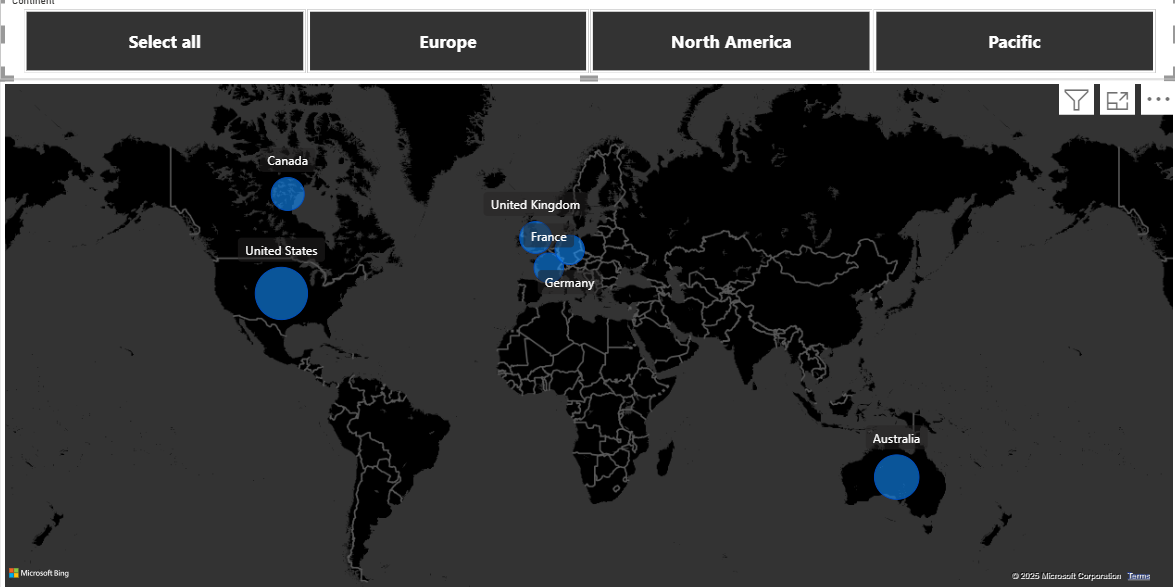

The dashboard page shown, as its layout file describes it:
{"tool":"powerbi","page":{"name":"MAP","canvas":[1280,720],"ordinal":1},"visuals":[{"type":"map","fields":{"Category":["Territory Lookup.Country"],"Size":["Measure Table.Total Orders"]},"box":[9.7,121.4,1271.1,552.2],"z":0},{"type":"slicer","fields":{"Values":["Territory Lookup.Continent"]},"box":[9.7,24.3,1271.1,97.2],"z":1000}]}

Visuals, with their boxes on the page's 1280x720 design canvas (x1, y1, x2, y2). These are canvas units, not pixel positions in the 1175x587 screenshot, which may show the page scaled, cropped or inside an application window:
map - Territory Lookup.Country x Measure Table.Total Orders: bbox(10, 121, 1281, 674)
slicer - Territory Lookup.Continent: bbox(10, 24, 1281, 122)
